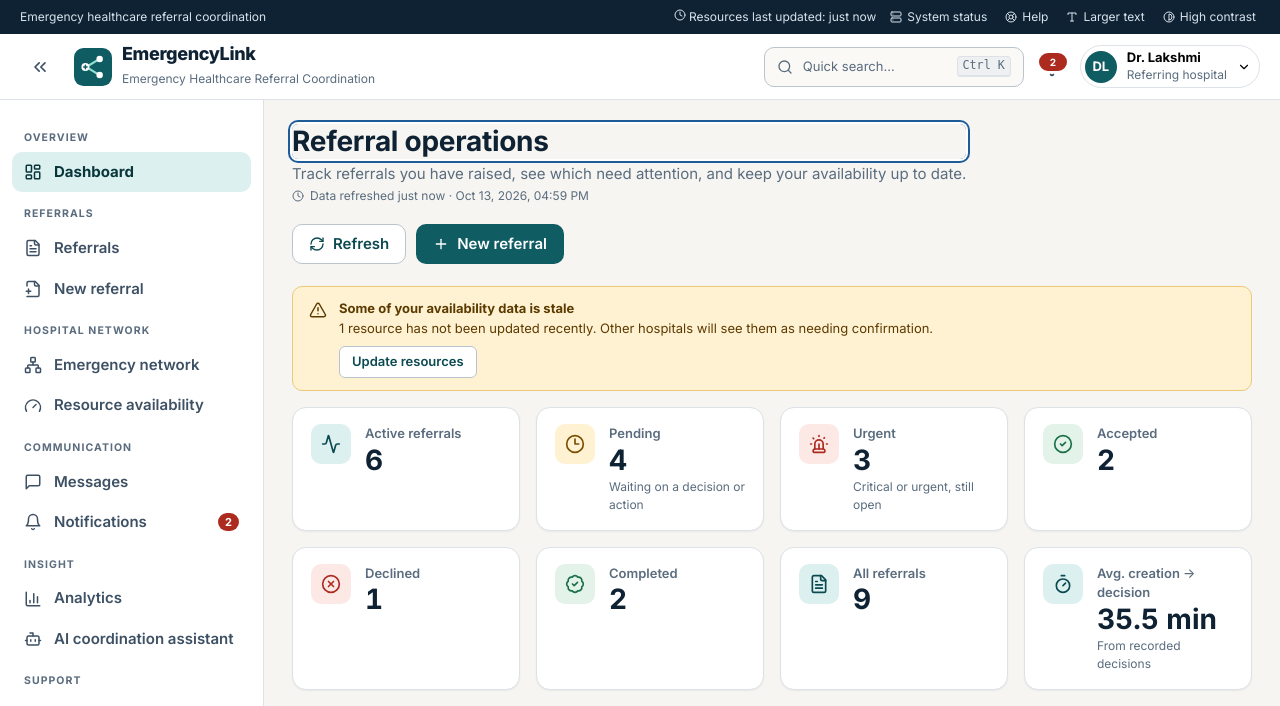
authenticated screens › opens the quick search and finds grouped results
Expected: the heading "Referral operations" is shown, [292, 124, 966, 159]
Press k
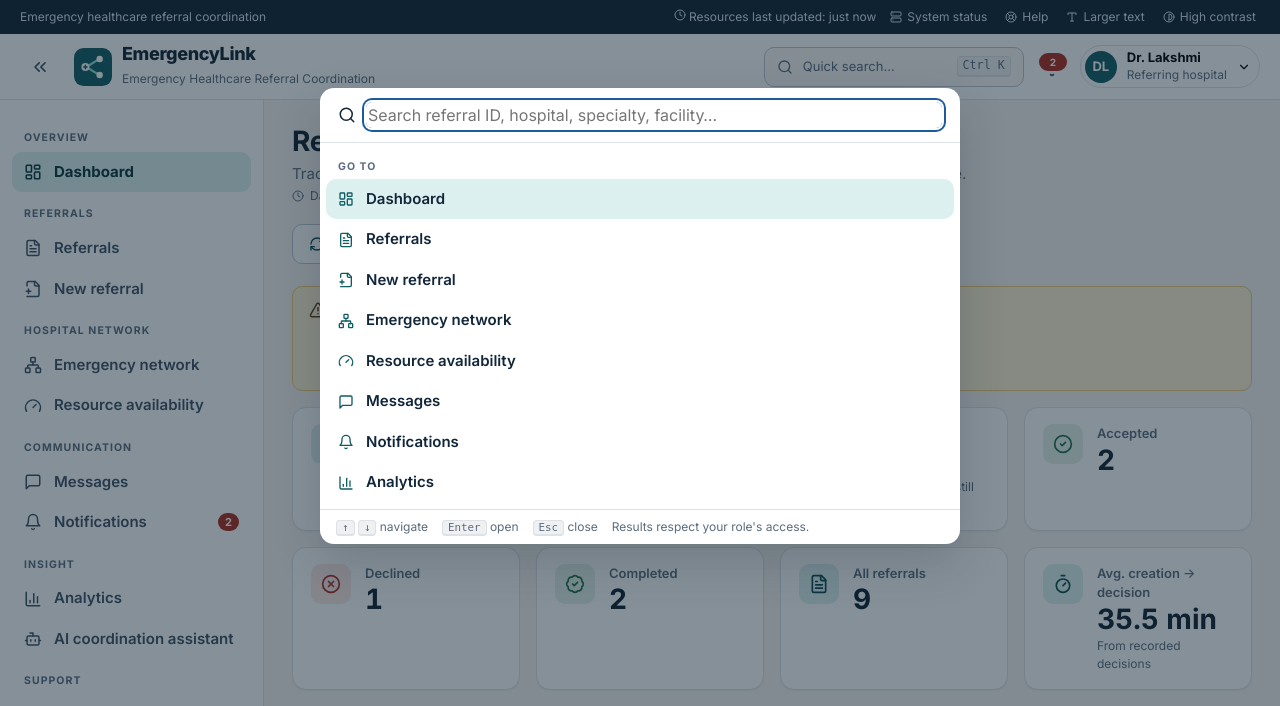
Type "hit" into the dropdown at x=654, y=115, box [366, 102, 942, 128]
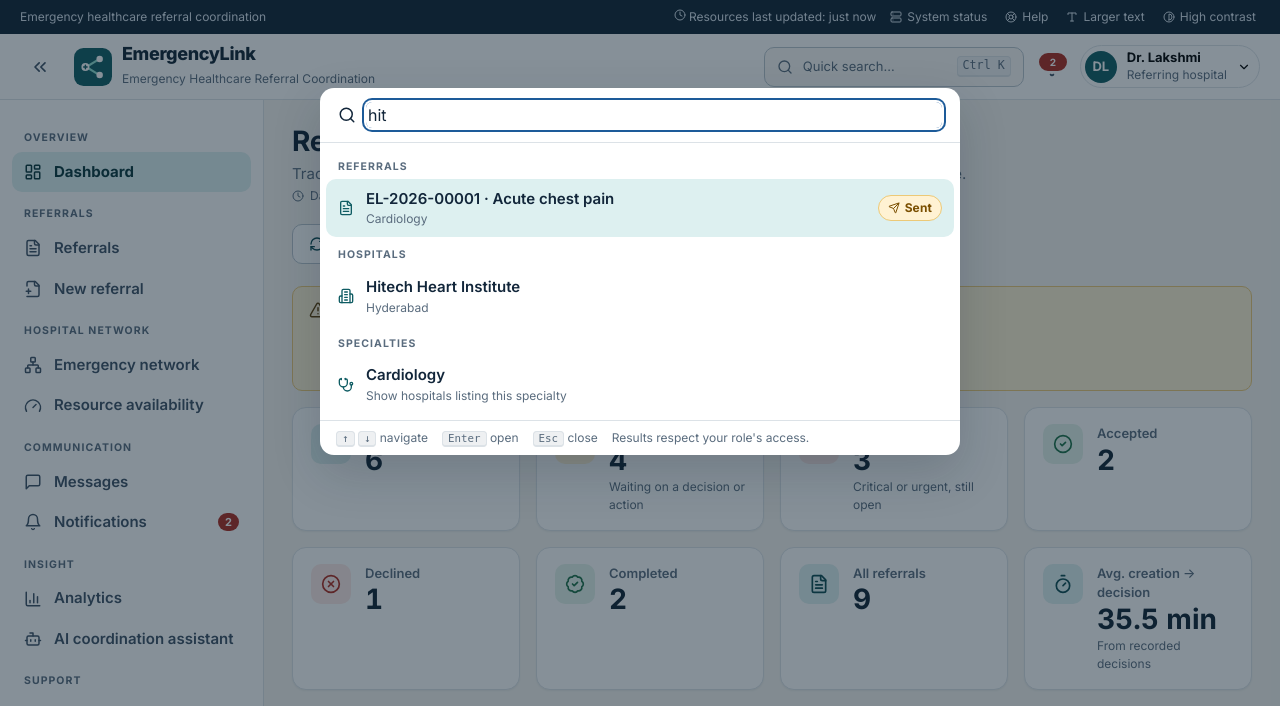
Now the text "Hospitals" is shown, box [338, 248, 407, 261]
